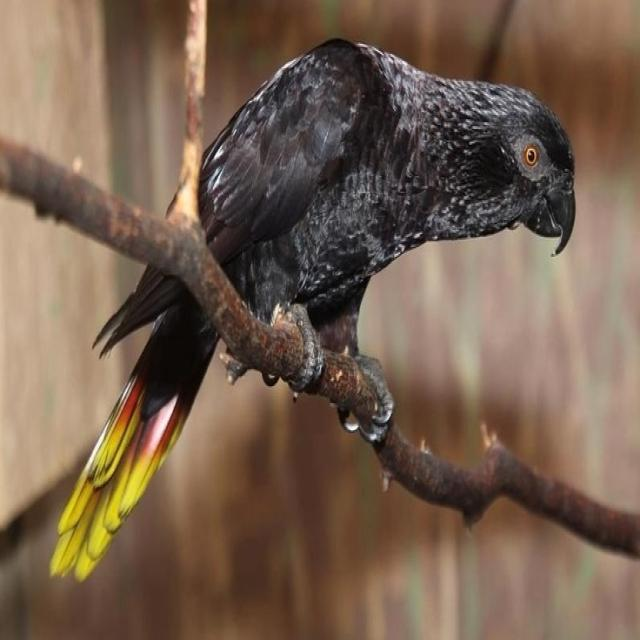Nuri Hitam: (51, 4, 588, 629)
